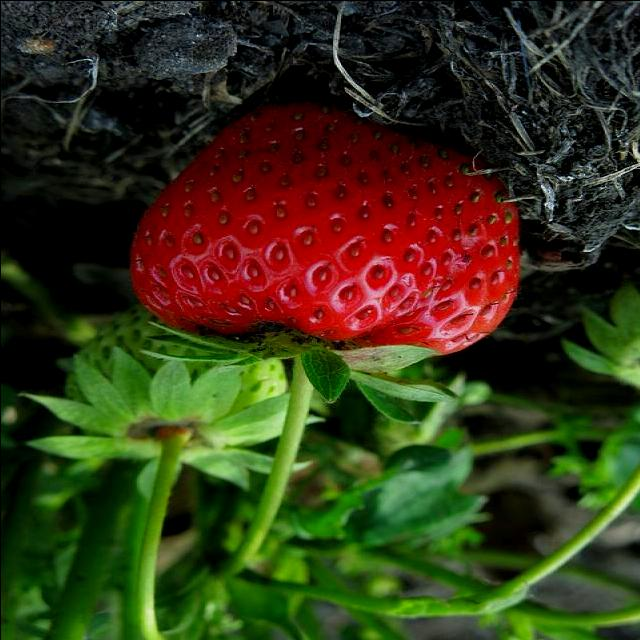ripe: (117, 86, 546, 384)
unripe: (36, 321, 294, 463)
